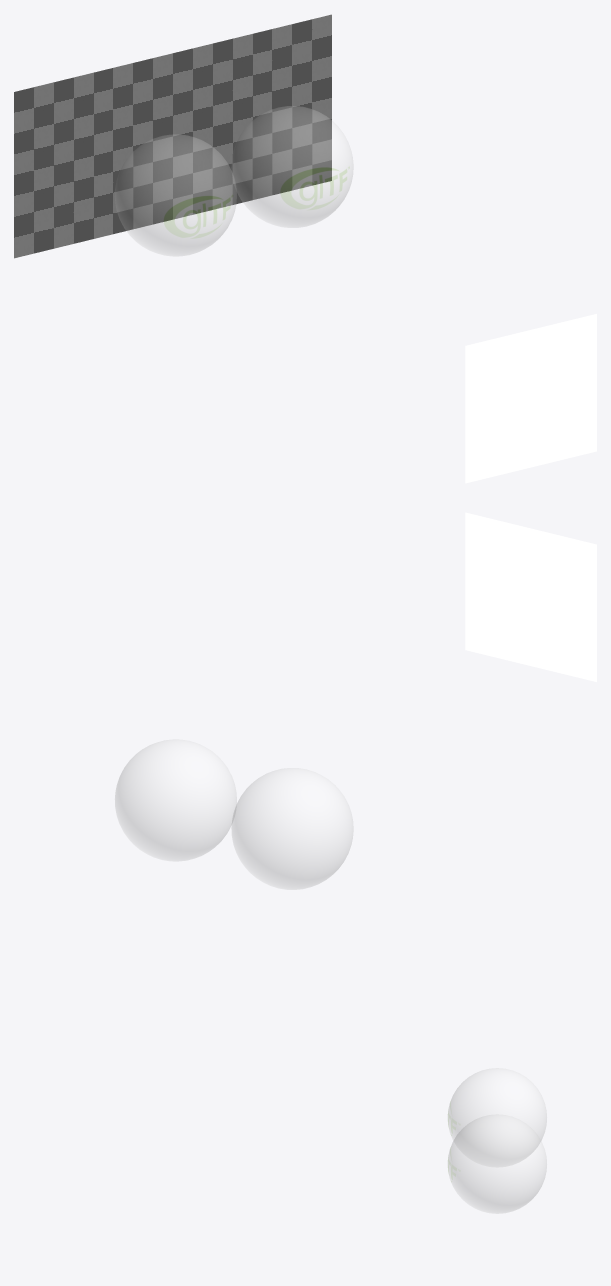
The model's file is khronos ior balls.gltf.
The picture shows the model from 3 angles, top to bottom: view 1: azimuth 30°, elevation 25°; view 2: azimuth 150°, elevation 25°; view 3: azimuth 270°, elevation 25°; orthographic projection. The views are drawn at different scales.
Parts seen in each view (by area): view 1: Checker, Plane, GeoSphere001, GeoSphere002; view 2: Plane, GeoSphere001, GeoSphere002; view 3: GeoSphere002, GeoSphere001.
Boxes of the visible parts, x1,y1,x2,y2 form: Checker: [14, 14, 331, 258]; Plane: [465, 314, 596, 483]; GeoSphere001: [115, 134, 236, 256]; GeoSphere002: [231, 106, 353, 227]; Plane: [465, 512, 596, 681]; GeoSphere001: [231, 768, 353, 889]; GeoSphere002: [115, 739, 236, 861]; GeoSphere002: [448, 1114, 546, 1213]; GeoSphere001: [448, 1068, 546, 1166].
Size of the model in its own units: 4.83 by 2.42 by 9.43.
4 materials, 3 textured.
